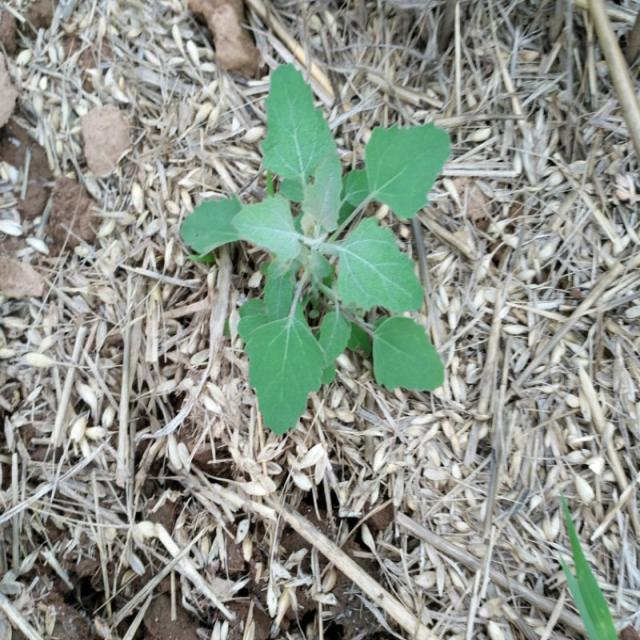goosefoots: (186, 66, 454, 437)
